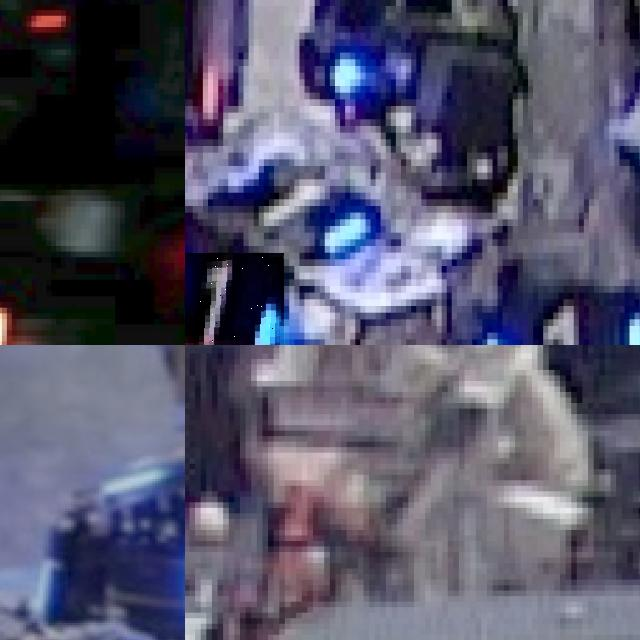B1: (223, 146, 371, 253), (185, 252, 284, 345), (477, 299, 640, 345)
